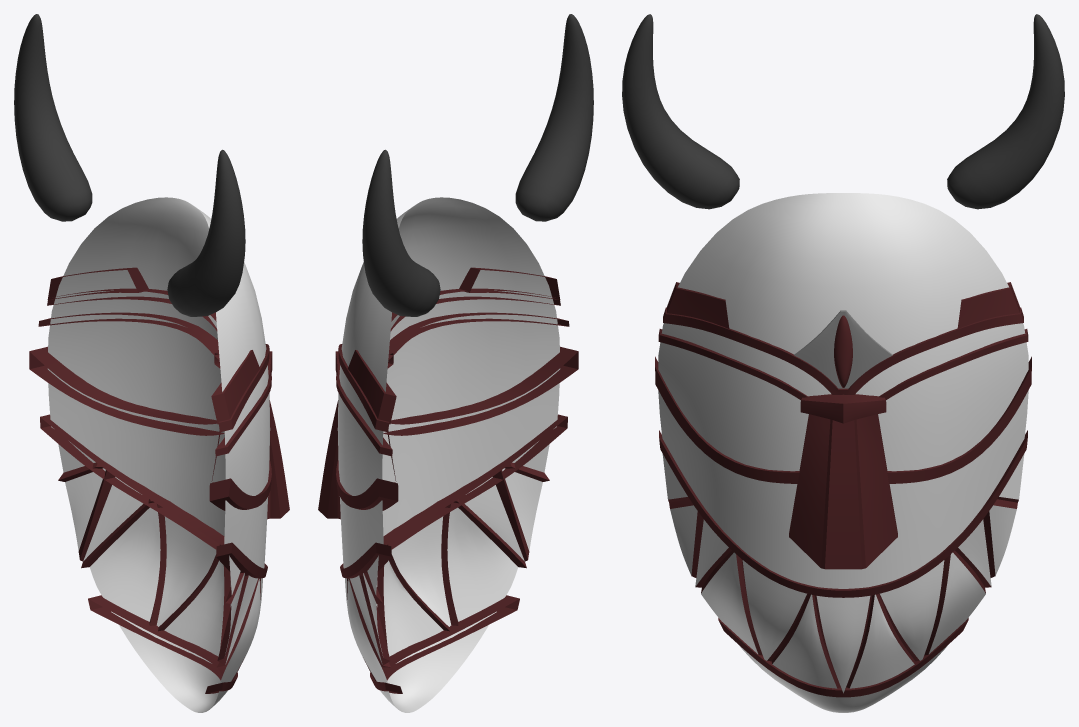
File: Mask3.fbx
3 views of the same model, side by side, from view 1: azimuth 30°, elevation 25°; view 2: azimuth 150°, elevation 25°; view 3: azimuth 270°, elevation 25° (orthographic). The views are drawn at different scales.
Parts seen in each view (by area): view 1: Plane.012, Plane.016, Plane.013, Plane.014; view 2: Plane.012, Plane.016, Plane.013, Plane.014; view 3: Plane.012, Plane.013, Plane.016, Plane.014, Plane.018.
Boxes of the visible parts, x1,y1,x2,y2 form: Plane.012: (47,197,270,712); Plane.016: (58,441,262,682); Plane.013: (29,267,289,693); Plane.014: (14,14,245,316); Plane.012: (337,197,560,712); Plane.016: (345,441,549,682); Plane.013: (318,267,578,693); Plane.014: (362,14,593,316); Plane.012: (658,193,1028,712); Plane.013: (655,282,1031,697); Plane.016: (662,454,1024,693); Plane.014: (622,14,1064,209); Plane.018: (794,310,892,388).
Size of the model in its own units: 8.31 by 28.86 by 17.44.
